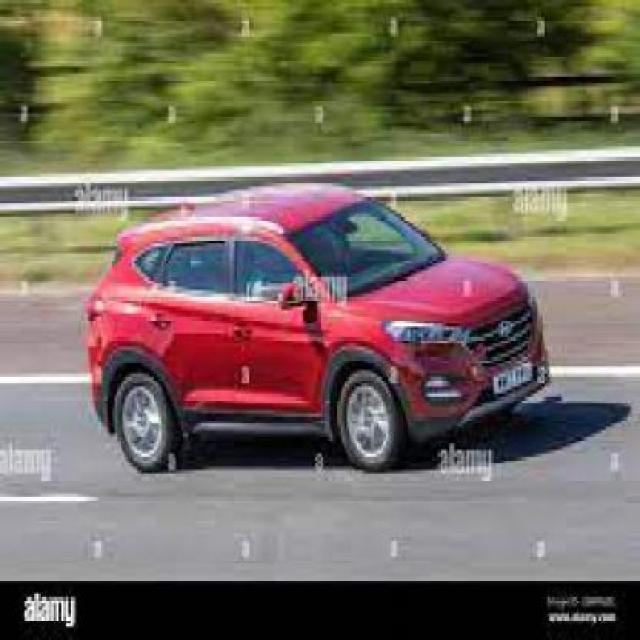vehicle: (82, 177, 554, 495)
